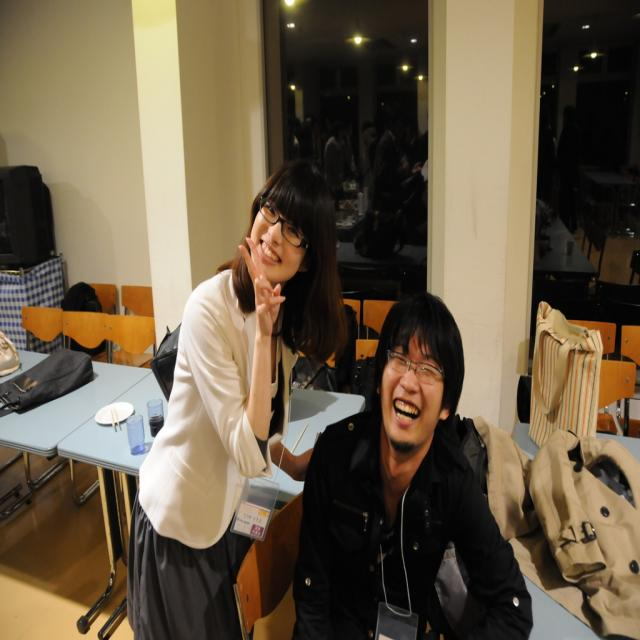chair: (234, 490, 304, 638), (112, 283, 157, 367)
desk: (58, 366, 360, 640)
person: (128, 158, 354, 632), (290, 292, 532, 635), (324, 121, 356, 195)
tv: (0, 163, 56, 267)
